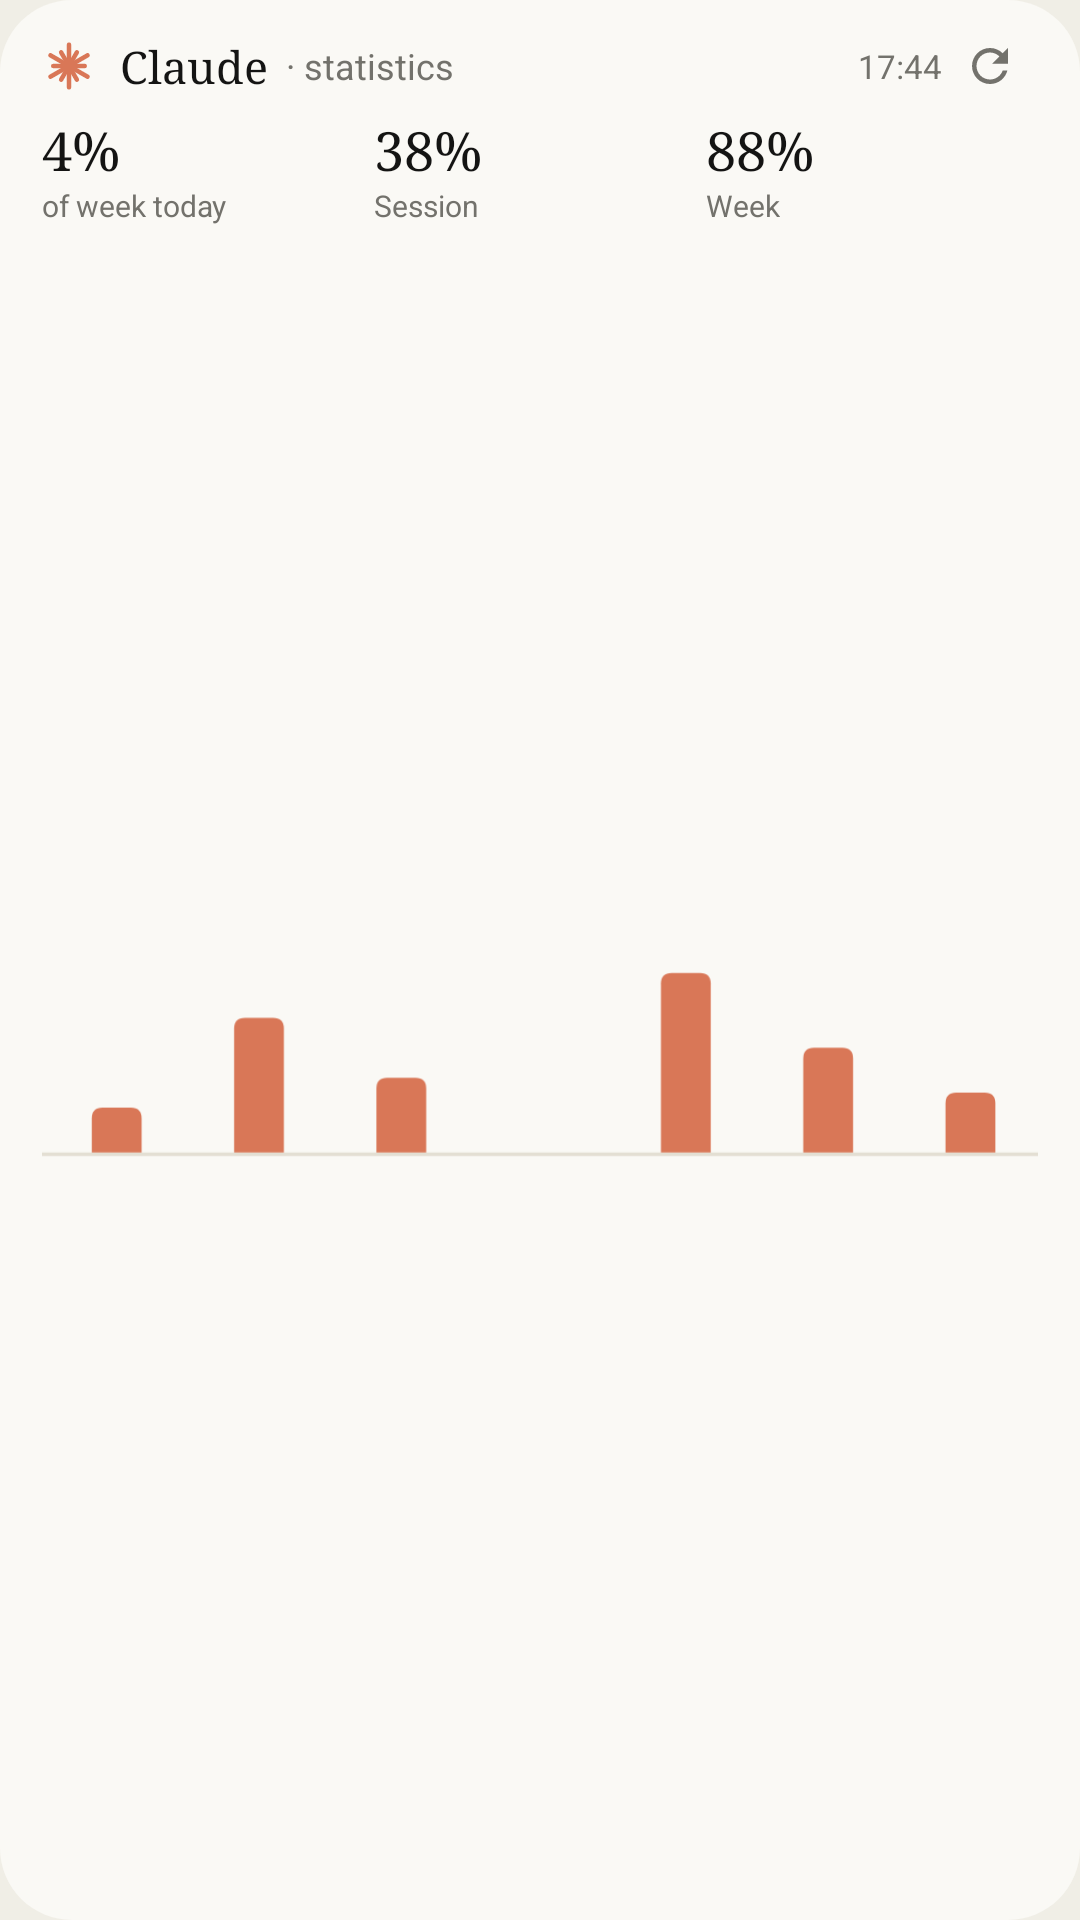

Icons on this 1080×1920 Android screen, each with the point to tap as (x=x, y=y):
Refresh: (x=990, y=66)
spark: (x=69, y=66)
